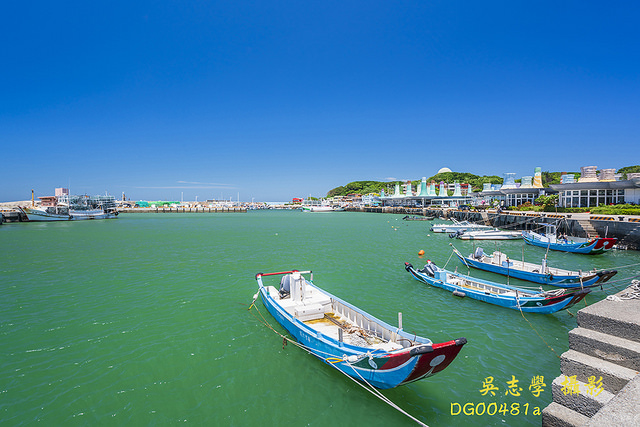boat: (248, 258, 465, 392), (401, 256, 577, 313), (463, 237, 605, 288), (525, 223, 597, 253), (452, 221, 524, 239), (427, 219, 496, 236)
fishing_boat: (17, 194, 68, 224)
